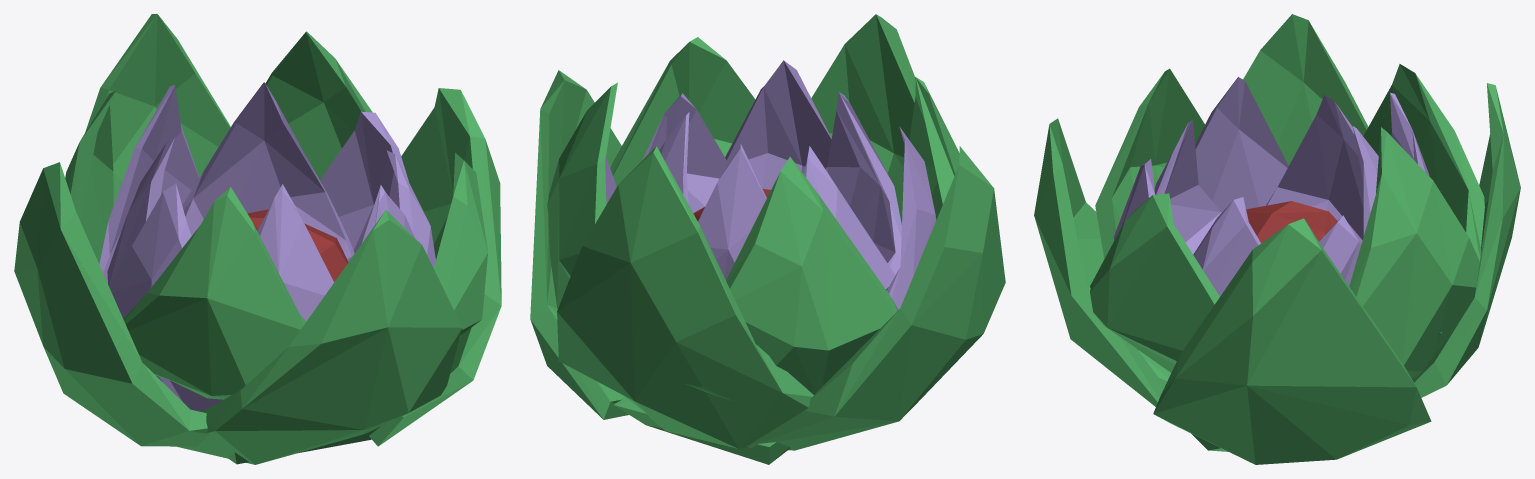
The model's file is cup_02.FBX.
The picture shows the model from 3 angles, left to right: view 1: azimuth 30°, elevation 25°; view 2: azimuth 150°, elevation 25°; view 3: azimuth 270°, elevation 25°; orthographic projection. The views are drawn at different scales.
Parts seen in each view (by area): view 1: Object001; view 2: Object001; view 3: Object001.
Part boxes in pixels (left/top/right/bottom): Object001: left=14, top=14, right=501, bottom=464; Object001: left=530, top=14, right=1005, bottom=464; Object001: left=1034, top=14, right=1520, bottom=464.
Bounding box in the file's own units: 124 × 92.51 × 123.
